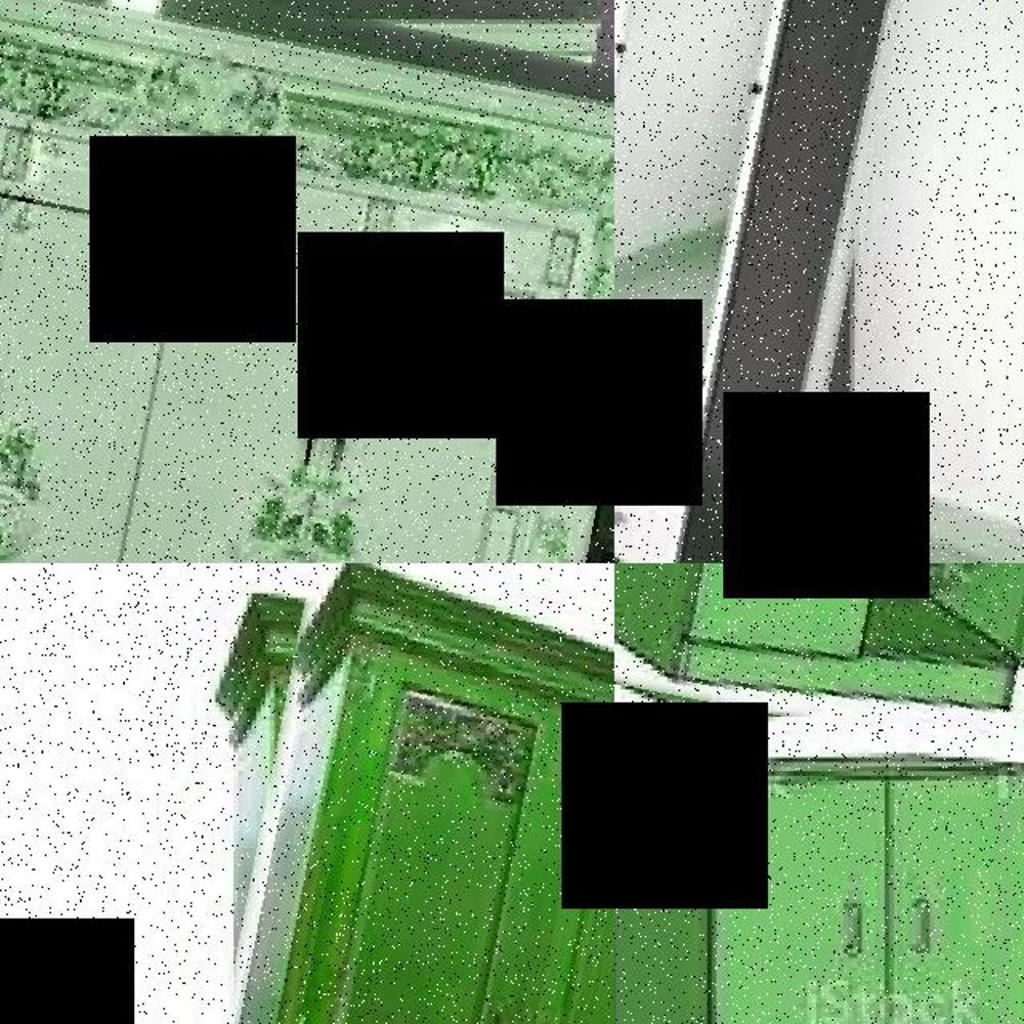cabinet: (0, 0, 614, 563), (171, 563, 614, 1024), (614, 0, 922, 563), (614, 760, 1024, 1024), (614, 563, 1024, 798)
